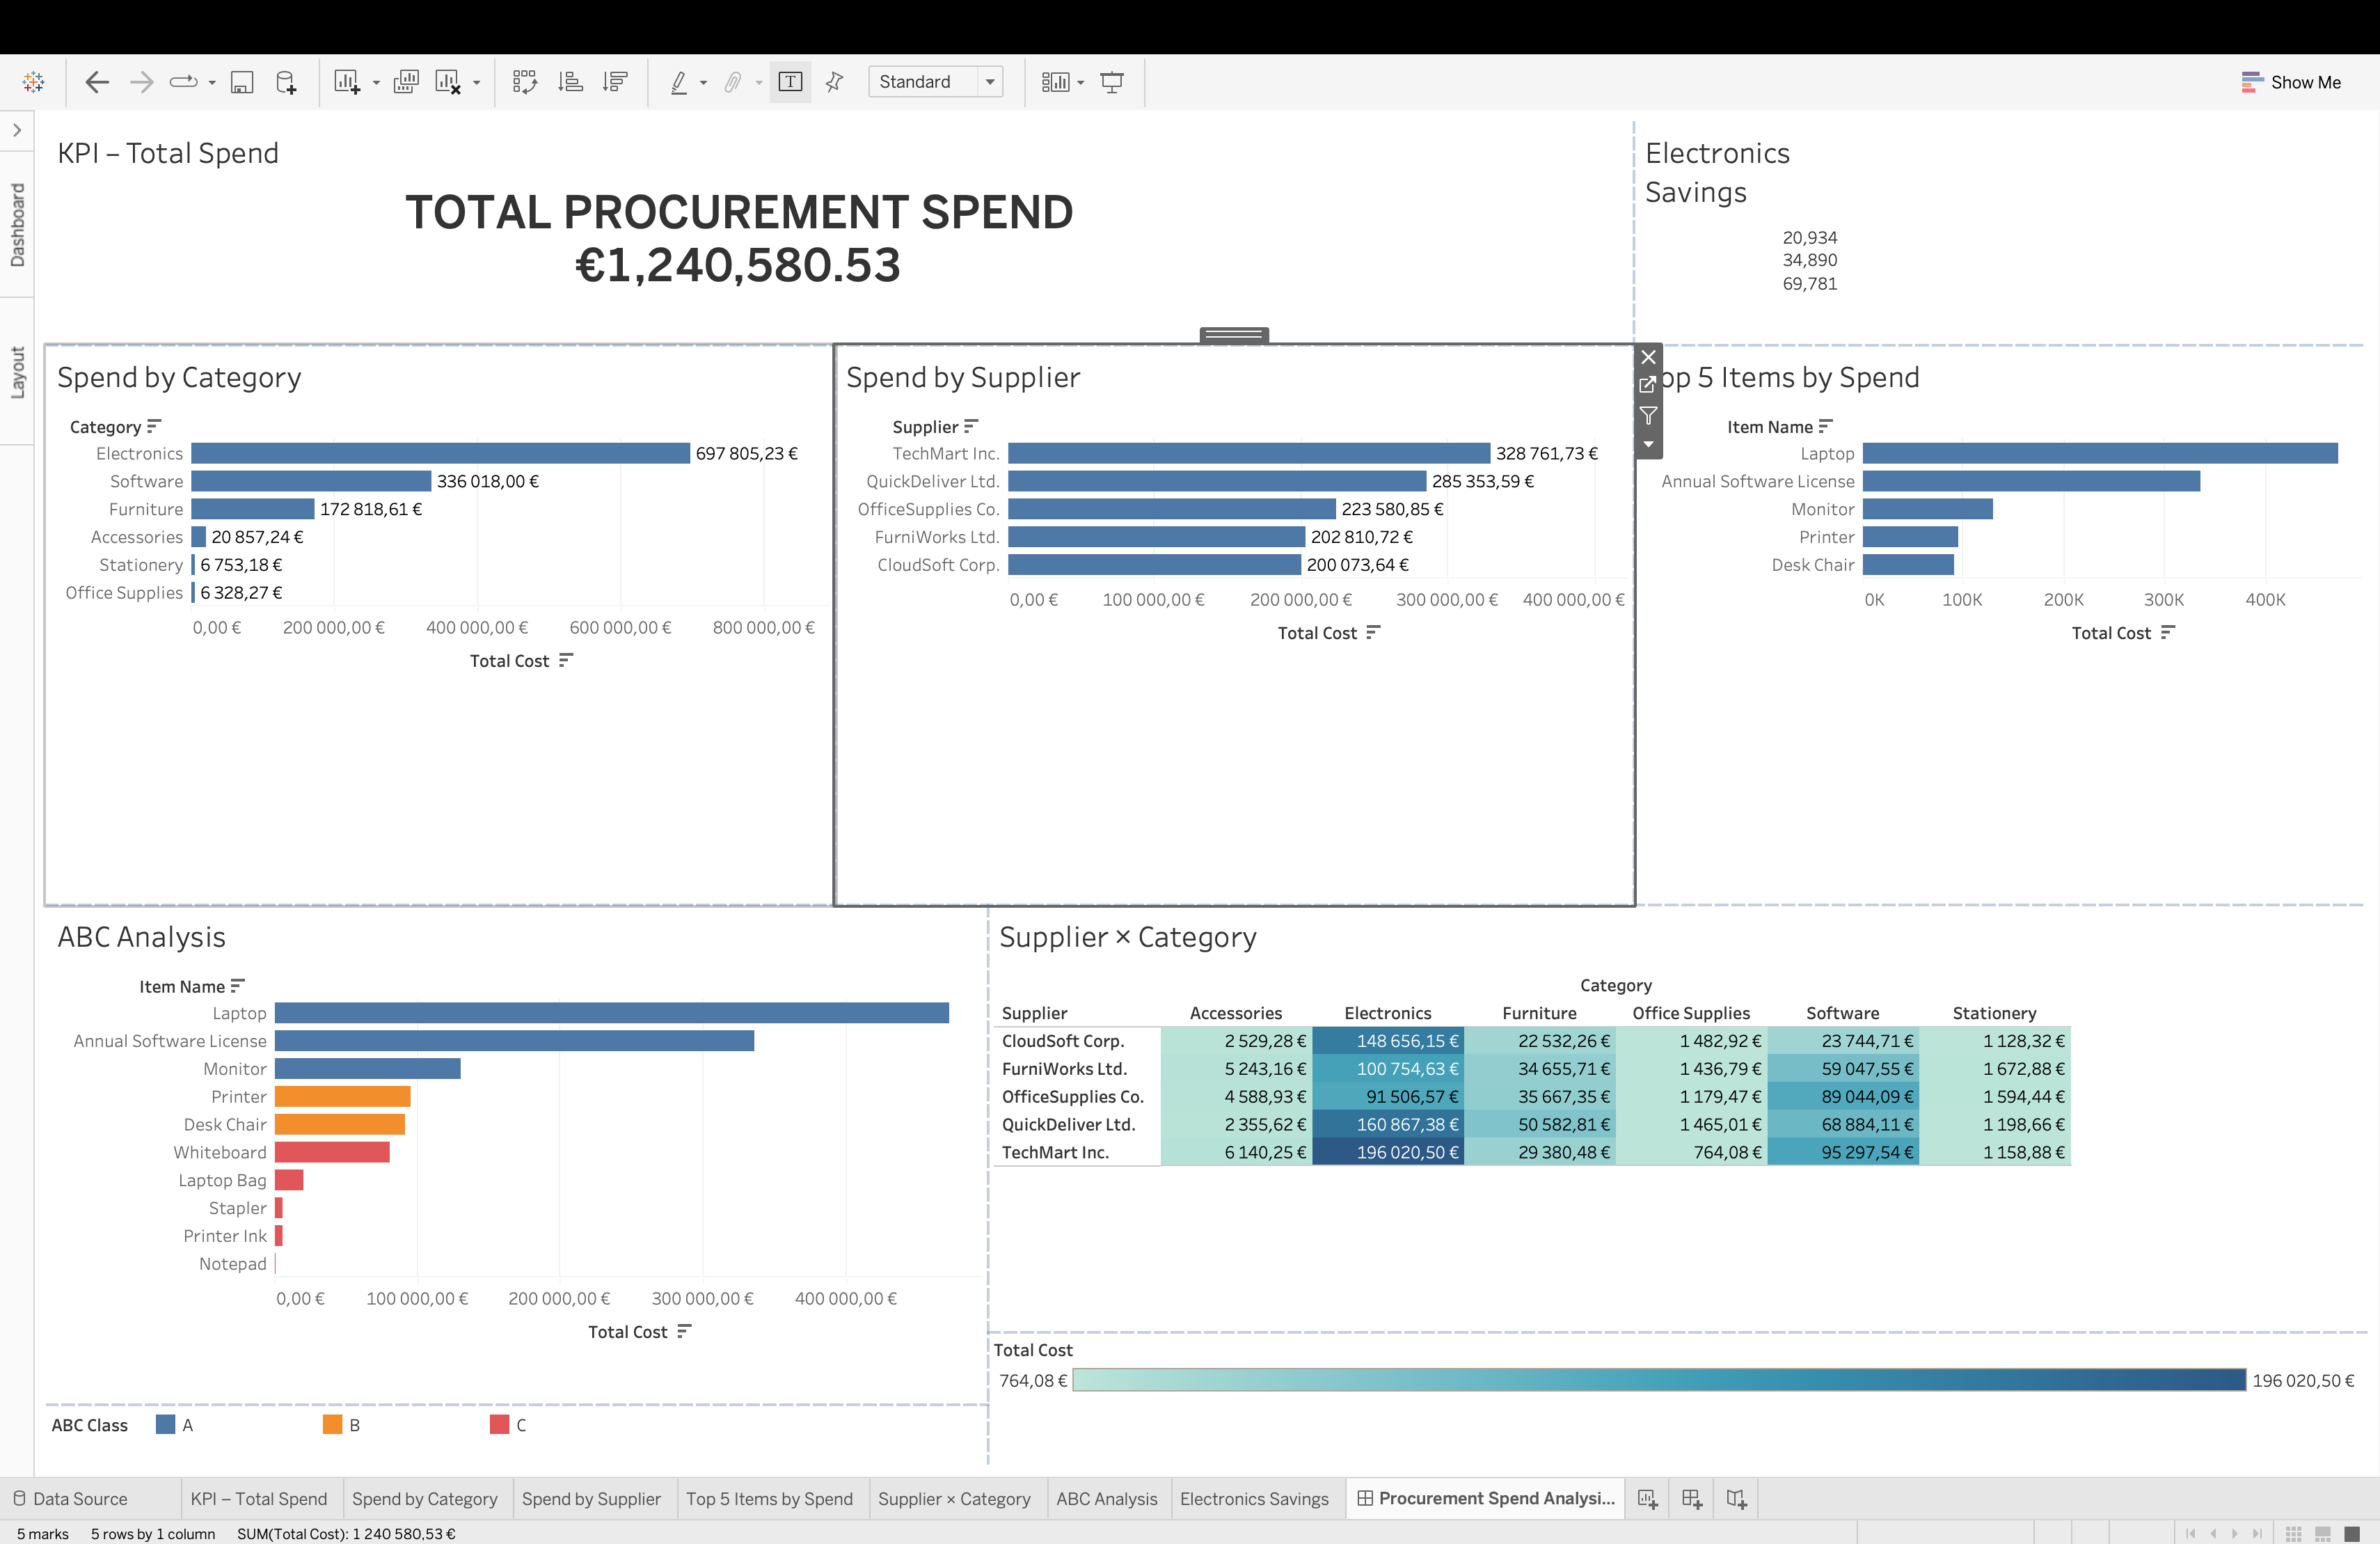

The dashboard page shown, as its layout file describes it:
{"tool":"tableau","page":{"name":"Procurement Spend Analysis Dashboard","canvas":[1000,1000],"units":"permille","ordinal":0},"visuals":[{"type":"worksheet","title":"KPI – Total Spend","mark":"Automatic","box":[5.3,8.4,882.6,163.9]},{"type":"filter","title":"Top 5 Items by Spend","param":"[federated.19sqzme0qzszxr14p3tj41bwsflw].[sum:TotalCost:qk]","box":[887.9,8.4,106.7,72.4]},{"type":"filter","title":"Top 5 Items by Spend","param":"[federated.19sqzme0qzszxr14p3tj41bwsflw].[none:ItemName:nk]","box":[887.9,80.8,106.7,296.9]},{"type":"worksheet","title":"Spend by Category","mark":"Automatic","rows":["Category"],"cols":["TotalCost"],"box":[5.3,172.3,358.2,289.4]},{"type":"worksheet","title":"Spend by Supplier","mark":"Automatic","rows":["Supplier"],"cols":["TotalCost"],"box":[363.6,172.3,258.2,420.6]},{"type":"worksheet","title":"Top 5 Items by Spend","mark":"Automatic","rows":["ItemName"],"cols":["TotalCost"],"box":[621.8,172.3,266.2,420.6]},{"type":"legend","title":"Supplier × Category","param":"[federated.19sqzme0qzszxr14p3tj41bwsflw].[sum:TotalCost:qk]","box":[887.9,377.7,106.7,68.2]},{"type":"legend","title":"ABC Analysis","param":"[federated.19sqzme0qzszxr14p3tj41bwsflw].[usr:Calculation_0150399174758400:nk:1]","box":[887.9,445.9,106.7,90.2]},{"type":"worksheet","title":"Electronics Savings","mark":"Automatic","box":[5.3,461.7,112.1,131.2]},{"type":"worksheet","title":"KPI - Electronic Spend","mark":"Automatic","box":[117.4,461.7,115.4,131.2]},{"type":"worksheet","title":"Electronics % of Total Spend","mark":"Automatic","box":[232.8,461.7,130.8,131.2]},{"type":"filter","title":"Spend by Category","param":"[federated.19sqzme0qzszxr14p3tj41bwsflw].[none:Category:nk]","box":[887.9,536.2,106.7,173.1]},{"type":"worksheet","title":"ABC Analysis","mark":"Automatic","rows":["ItemName"],"cols":["TotalCost"],"box":[5.3,592.9,358.1,398.8]},{"type":"worksheet","title":"Supplier × Category","mark":"Square","rows":["Supplier"],"cols":["Category"],"box":[363.4,592.9,524.5,398.8]},{"type":"filter","title":"Spend by Supplier","param":"[federated.19sqzme0qzszxr14p3tj41bwsflw].[none:Supplier:nk]","box":[887.9,709.3,106.7,153.2]}]}

Visuals, with their boxes on the dashboard's canvas, which has no fixed pixel size, in thousandths of its width and height (x1, y1, x2, y2). These are canvas units, not pixel positions in the 2380x1544 screenshot, which may show the page scaled, cropped or inside an application window:
"KPI – Total Spend" worksheet: <bbox>5, 8, 888, 172</bbox>
"Top 5 Items by Spend" filter: <bbox>888, 8, 995, 81</bbox>
"Top 5 Items by Spend" filter: <bbox>888, 81, 995, 378</bbox>
"Spend by Category" worksheet: <bbox>5, 172, 364, 462</bbox>
"Spend by Supplier" worksheet: <bbox>364, 172, 622, 593</bbox>
"Top 5 Items by Spend" worksheet: <bbox>622, 172, 888, 593</bbox>
"Supplier × Category" legend: <bbox>888, 378, 995, 446</bbox>
"ABC Analysis" legend: <bbox>888, 446, 995, 536</bbox>
"Electronics Savings" worksheet: <bbox>5, 462, 117, 593</bbox>
"KPI - Electronic Spend" worksheet: <bbox>117, 462, 233, 593</bbox>
"Electronics % of Total Spend" worksheet: <bbox>233, 462, 364, 593</bbox>
"Spend by Category" filter: <bbox>888, 536, 995, 709</bbox>
"ABC Analysis" worksheet: <bbox>5, 593, 363, 992</bbox>
"Supplier × Category" worksheet (Square marks): <bbox>363, 593, 888, 992</bbox>
"Spend by Supplier" filter: <bbox>888, 709, 995, 862</bbox>
